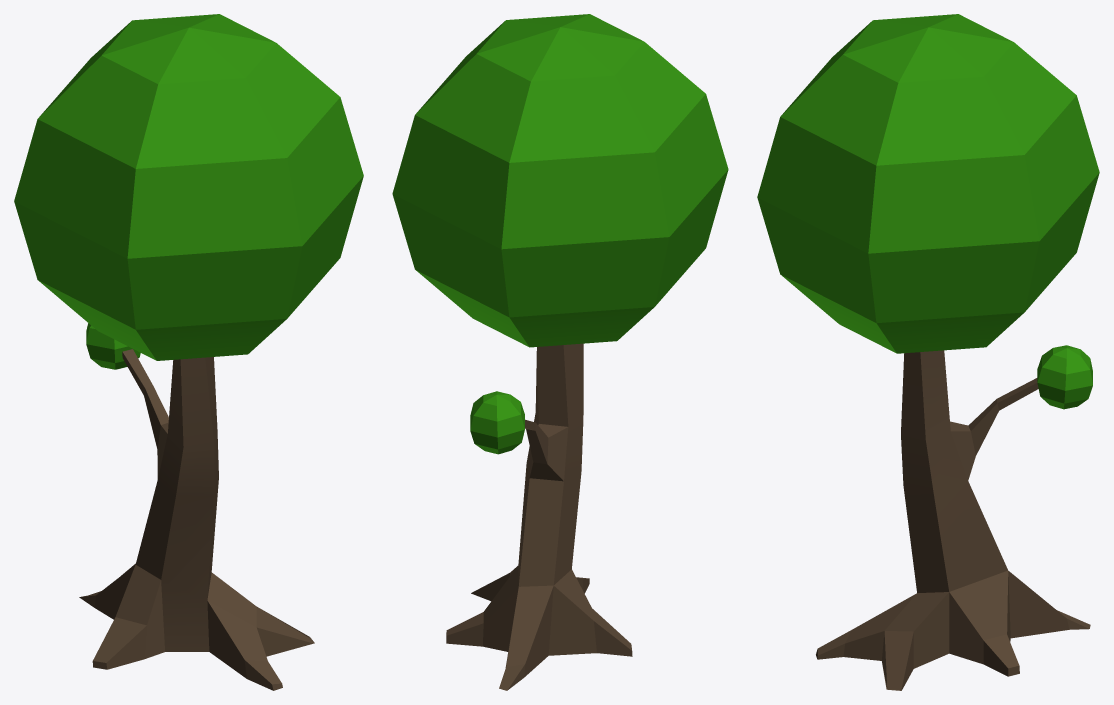
File: Tree01.fbx
The picture shows the model from 3 angles, left to right: view 1: azimuth 30°, elevation 25°; view 2: azimuth 150°, elevation 25°; view 3: azimuth 270°, elevation 25°; orthographic projection. The views are drawn at different scales.
Visible parts, largest first — view 1: pSphere3; view 2: pSphere3; view 3: pSphere3.
Part boxes in pixels (x1,y1,x2,y2): pSphere3: [14, 14, 363, 690]; pSphere3: [392, 14, 728, 690]; pSphere3: [757, 14, 1099, 690].
Bounding box in the file's own units: 8.9 × 18.5 × 9.34.
1 material, 1 textured.
